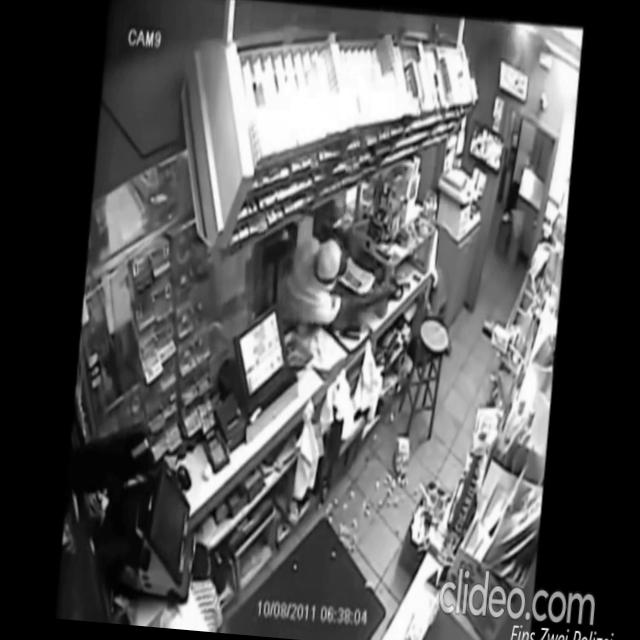gun: (386, 271, 404, 303)
person with a gun: (272, 229, 416, 350)
